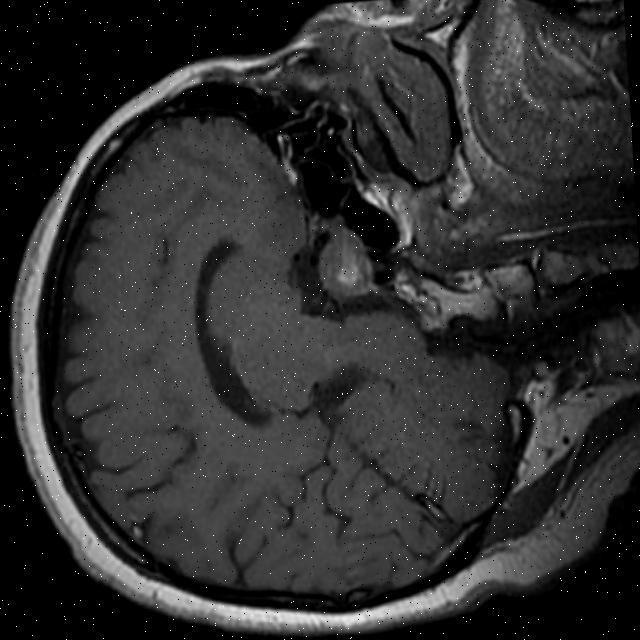Pituitary: (314, 225, 373, 297)
